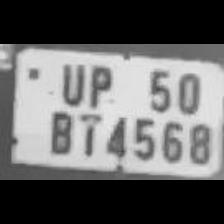0: (172, 68, 202, 114)
4: (100, 110, 128, 160)
5: (125, 112, 156, 162), (144, 67, 173, 111)
6: (156, 116, 184, 166)
8: (184, 118, 214, 168)
B: (44, 106, 74, 156)
P: (83, 60, 115, 108)
T: (74, 110, 102, 160)
U: (54, 59, 86, 105)
